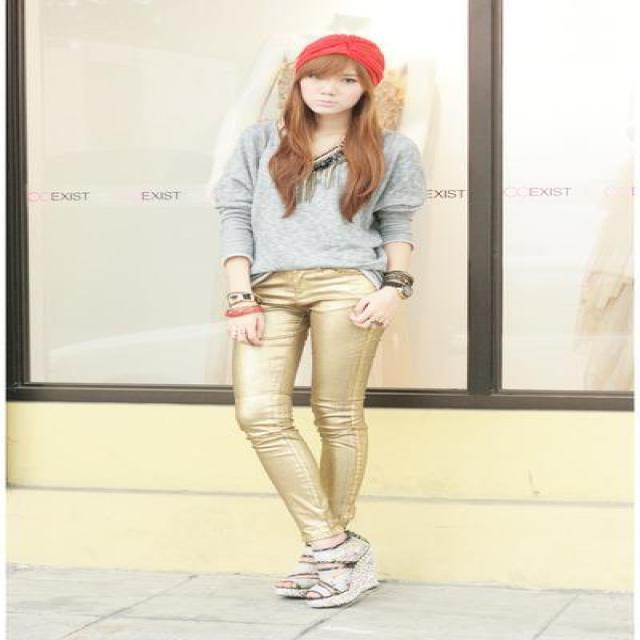hat: (301, 34, 384, 89)
pants: (224, 256, 395, 546)
shirt: (216, 124, 435, 282)
shoe: (280, 530, 384, 616)
